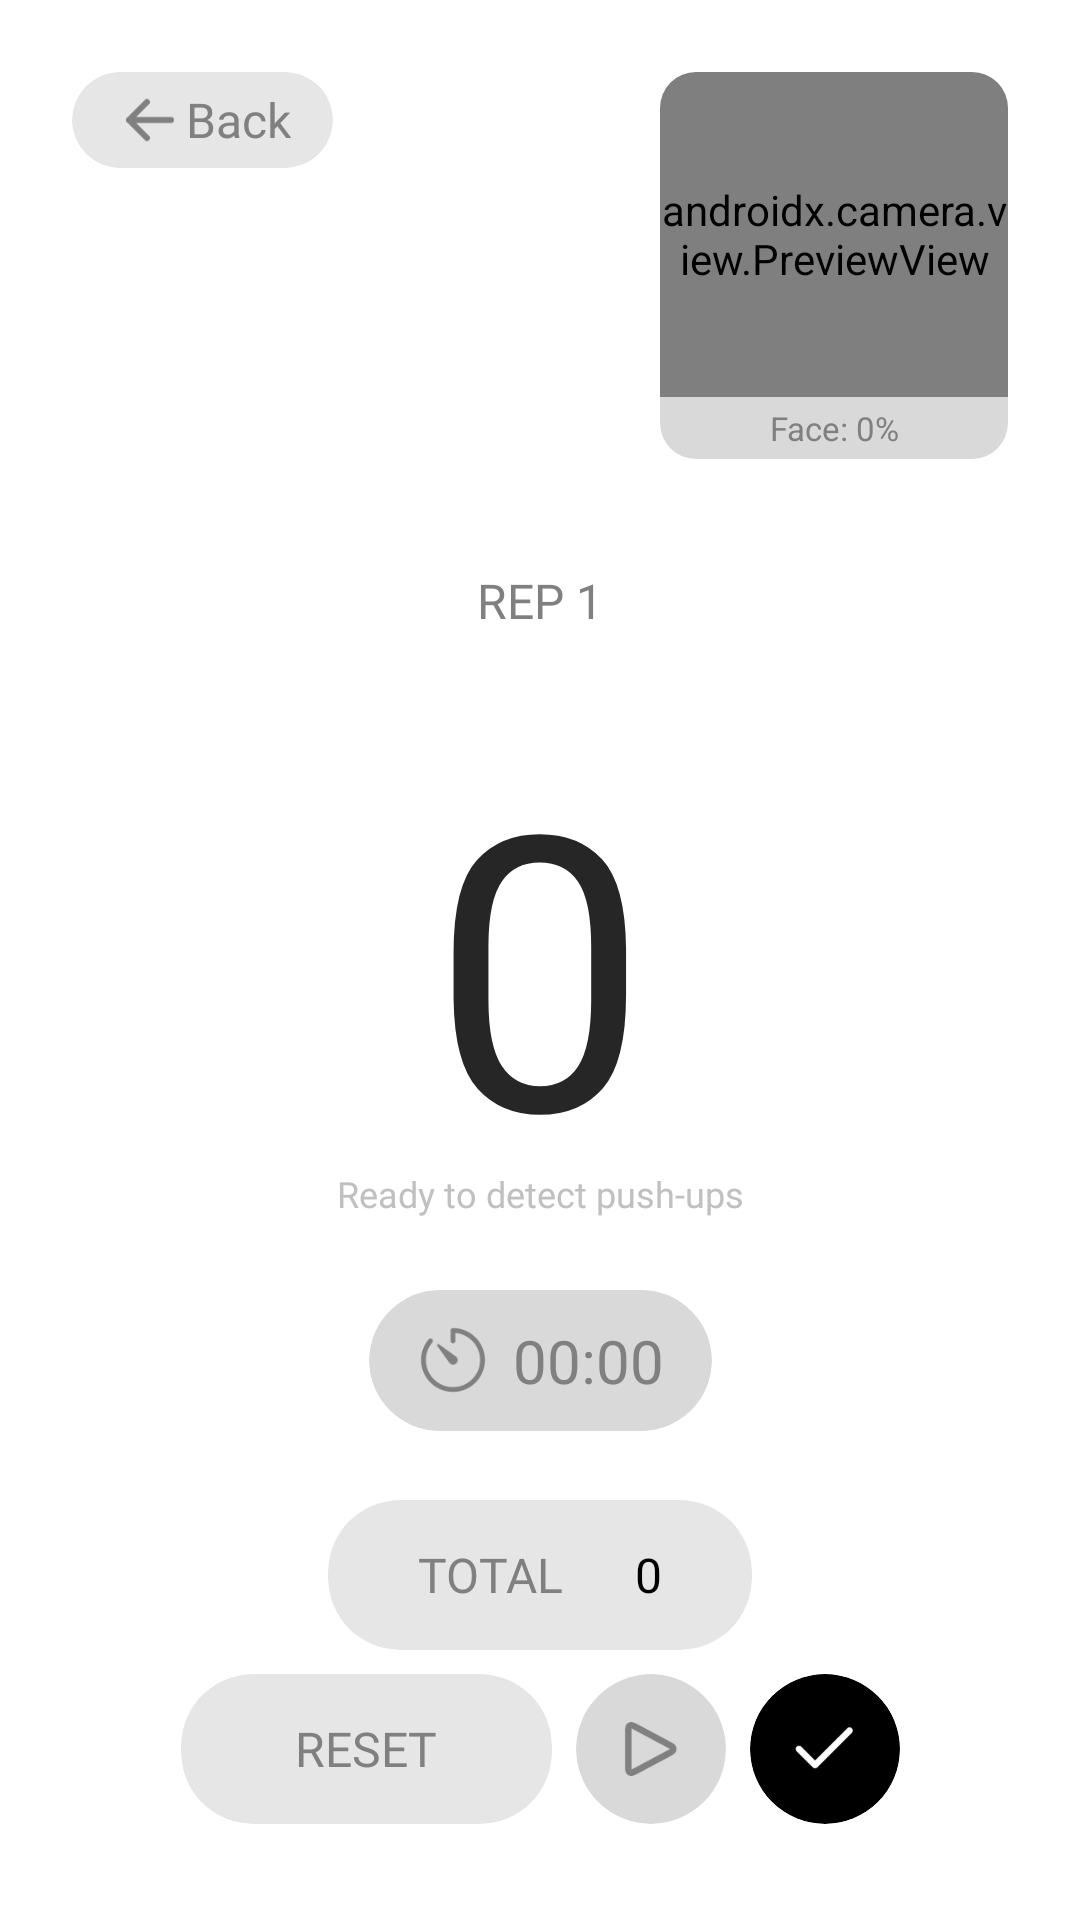

Screen size 1080px×1920px. Icon name, then its center in pixels as [x,y]:
Finish: [824,1748]
Play/Pause: [651,1749]
Timer: [453,1360]
